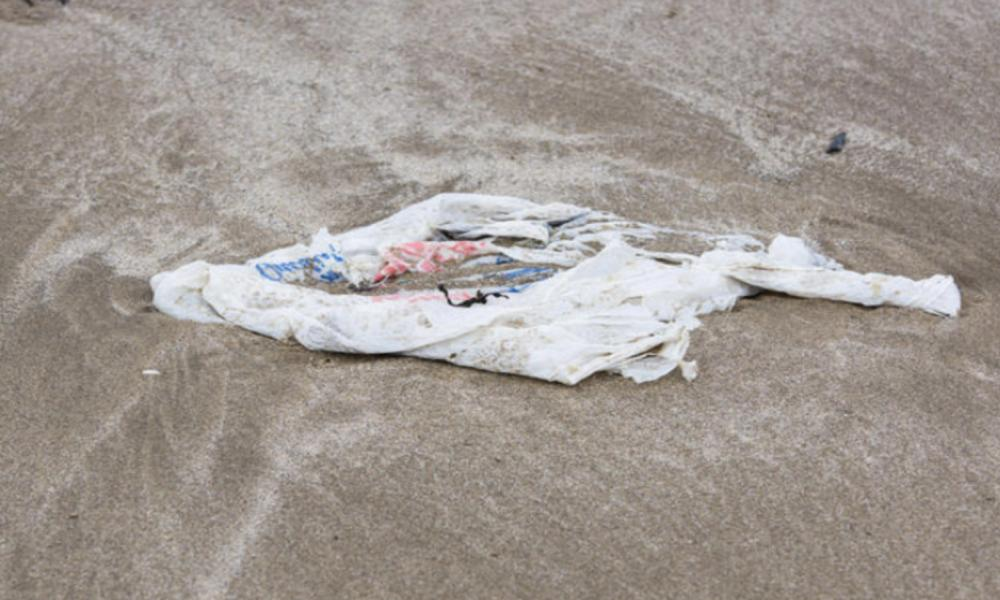plastic bag: (141, 185, 971, 407)
